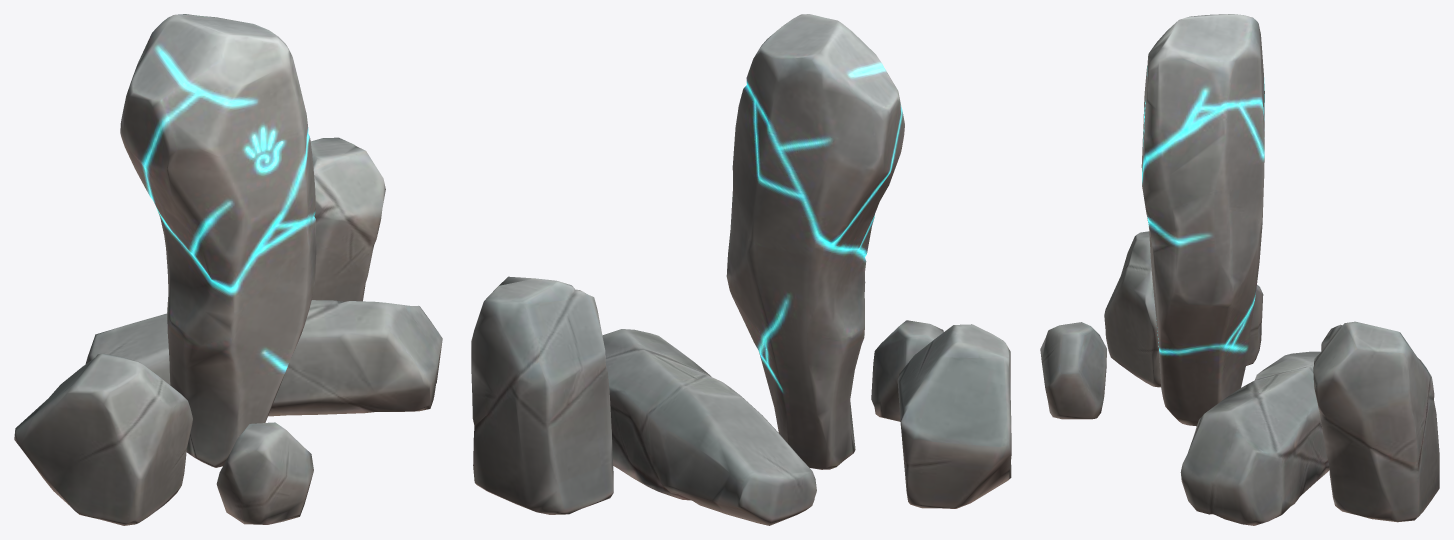
Rendered from env_runes.glb.
The picture shows the model from 3 angles, left to right: view 1: azimuth 30°, elevation 25°; view 2: azimuth 150°, elevation 25°; view 3: azimuth 270°, elevation 25°; orthographic projection. The views are drawn at different scales.
Parts seen in each view (by area): view 1: StylRocksMagic_1_LOD0_Mat_StylMagicRocks_0, StylRocksMagic_4_LOD0_Mat_StylMagicRocks_0, StylRocksMagic_2_LOD0_Mat_StylMagicRocks_0, StylRocksMagic_3_LOD0_Mat_StylMagicRocks_0, StylRocksMagic_5_LOD0_Mat_StylMagicRocks_0; view 2: StylRocksMagic_1_LOD0_Mat_StylMagicRocks_0, StylRocksMagic_3_LOD0_Mat_StylMagicRocks_0, StylRocksMagic_2_LOD0_Mat_StylMagicRocks_0, StylRocksMagic_4_LOD0_Mat_StylMagicRocks_0, StylRocksMagic_5_LOD0_Mat_StylMagicRocks_0; view 3: StylRocksMagic_1_LOD0_Mat_StylMagicRocks_0, StylRocksMagic_3_LOD0_Mat_StylMagicRocks_0, StylRocksMagic_2_LOD0_Mat_StylMagicRocks_0, StylRocksMagic_4_LOD0_Mat_StylMagicRocks_0, StylRocksMagic_5_LOD0_Mat_StylMagicRocks_0.
Boxes of the visible parts, box(x1,y1,x2,y2) form: StylRocksMagic_1_LOD0_Mat_StylMagicRocks_0: box(120, 14, 316, 467); StylRocksMagic_4_LOD0_Mat_StylMagicRocks_0: box(14, 353, 192, 525); StylRocksMagic_2_LOD0_Mat_StylMagicRocks_0: box(85, 300, 442, 416); StylRocksMagic_3_LOD0_Mat_StylMagicRocks_0: box(310, 137, 385, 301); StylRocksMagic_5_LOD0_Mat_StylMagicRocks_0: box(216, 422, 313, 524); StylRocksMagic_1_LOD0_Mat_StylMagicRocks_0: box(726, 14, 904, 469); StylRocksMagic_3_LOD0_Mat_StylMagicRocks_0: box(471, 276, 613, 514); StylRocksMagic_2_LOD0_Mat_StylMagicRocks_0: box(602, 329, 816, 525); StylRocksMagic_4_LOD0_Mat_StylMagicRocks_0: box(897, 324, 1011, 508); StylRocksMagic_5_LOD0_Mat_StylMagicRocks_0: box(871, 320, 943, 421); StylRocksMagic_1_LOD0_Mat_StylMagicRocks_0: box(1141, 14, 1264, 426); StylRocksMagic_3_LOD0_Mat_StylMagicRocks_0: box(1313, 321, 1439, 522); StylRocksMagic_2_LOD0_Mat_StylMagicRocks_0: box(1180, 351, 1329, 525); StylRocksMagic_4_LOD0_Mat_StylMagicRocks_0: box(1104, 231, 1263, 387); StylRocksMagic_5_LOD0_Mat_StylMagicRocks_0: box(1040, 322, 1106, 419).
Bounding box in the file's own units: 207 × 194 × 176.
Materials: 1 (1 with a texture image).
